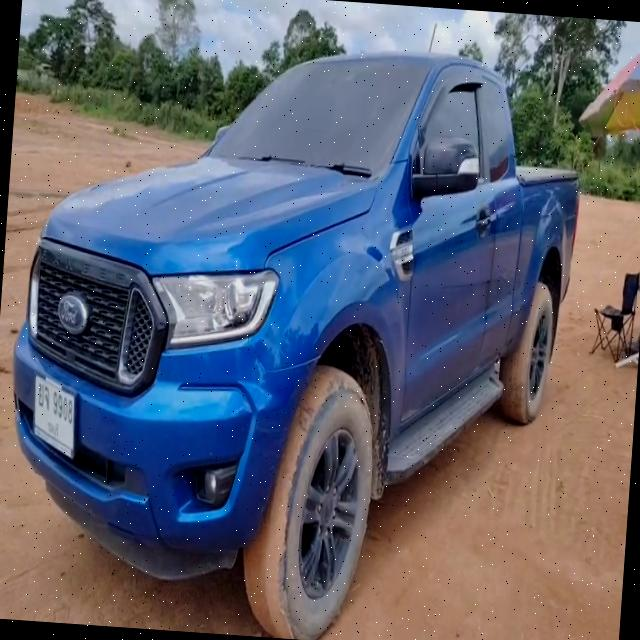Digit: (52, 391, 73, 425)
Licenseplate: (32, 371, 75, 459)
Provincename: (46, 419, 59, 441)
Thaichar: (37, 382, 50, 412)
